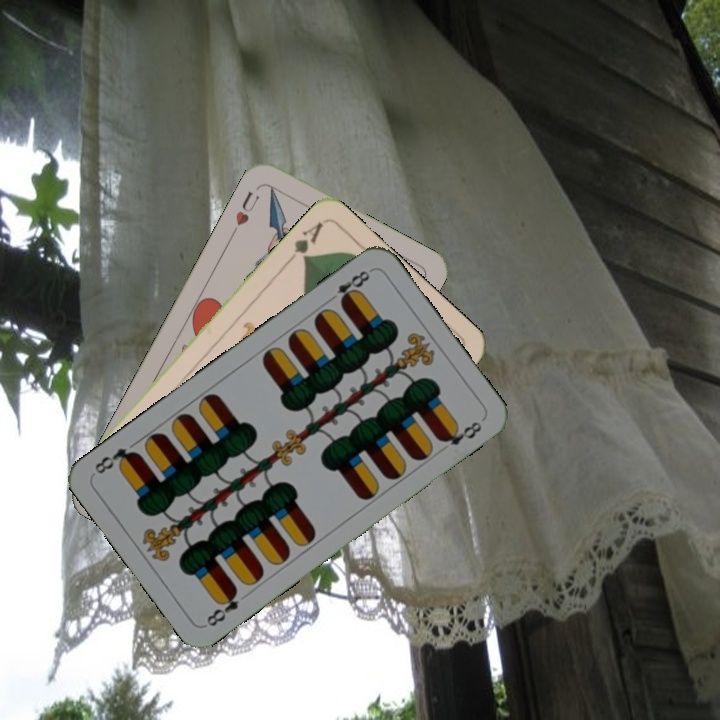E8: (323, 265, 375, 308), (202, 584, 242, 629)
GA: (282, 217, 326, 267)
HU: (231, 187, 262, 229)
